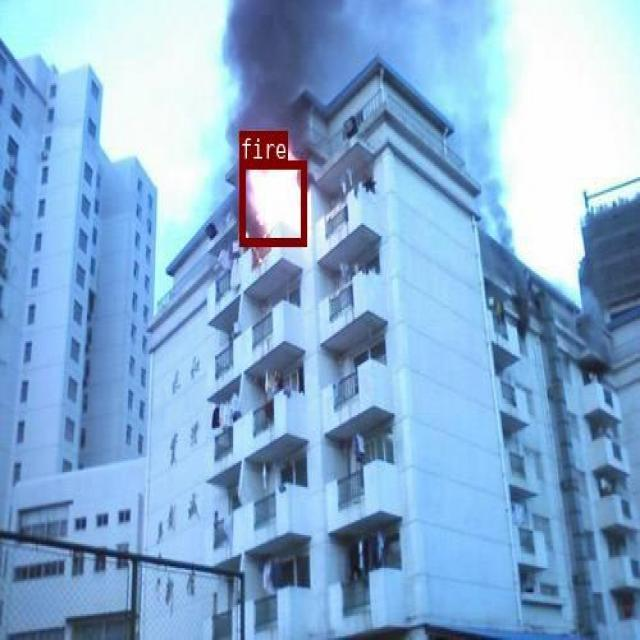fire: (238, 159, 306, 245)
